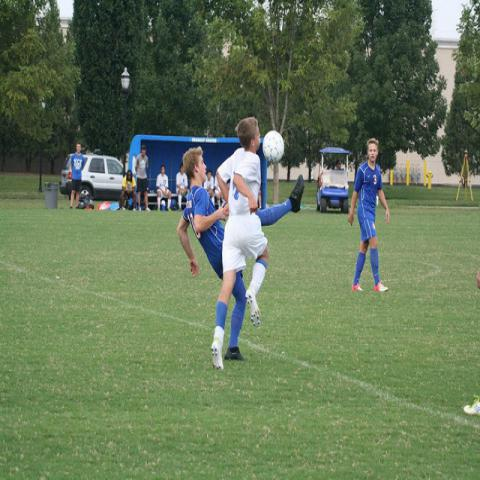car: (60, 153, 123, 204)
